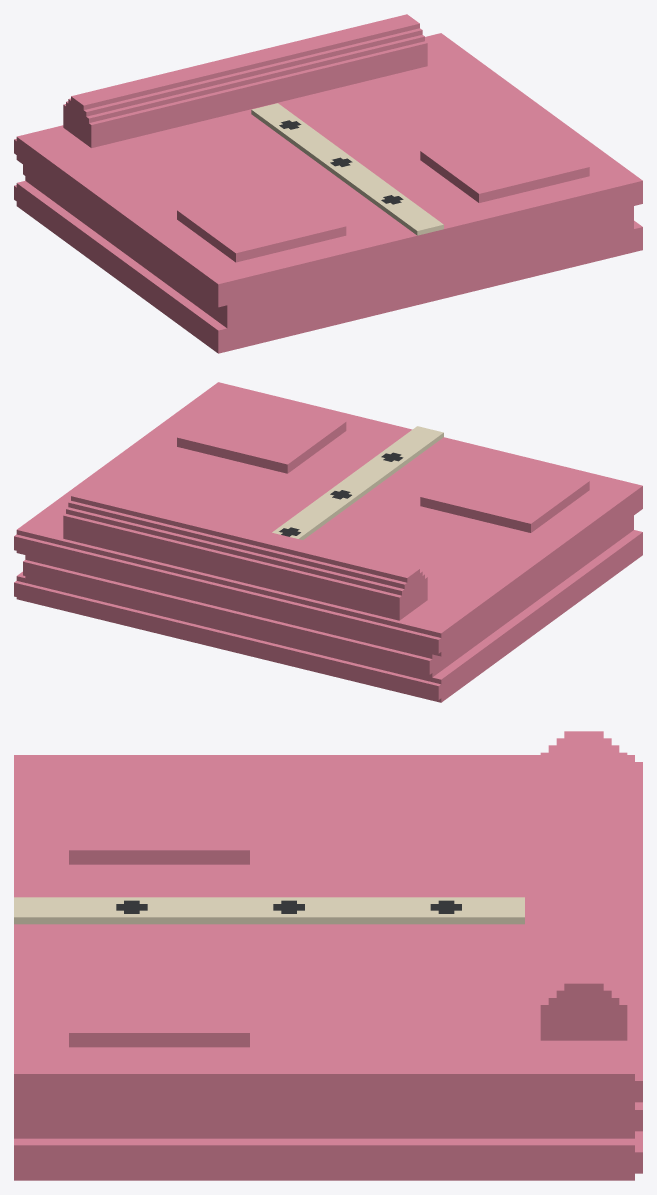
File: coat_faux_fur.glb
The picture shows the model from 3 angles, top to bottom: view 1: azimuth 30°, elevation 25°; view 2: azimuth 150°, elevation 25°; view 3: azimuth 270°, elevation 25°; orthographic projection. The views are drawn at different scales.
Visible parts, largest first — view 1: coat_faux_fur:compound; view 2: coat_faux_fur:compound; view 3: coat_faux_fur:compound.
Boxes of the visible parts, x1=… form: coat_faux_fur:compound: x1=14, y1=14, x2=642, y2=353; coat_faux_fur:compound: x1=14, y1=382, x2=642, y2=702; coat_faux_fur:compound: x1=14, y1=731, x2=642, y2=1180.
Size of the model in its own units: 0.384 by 0.092 by 0.32.
